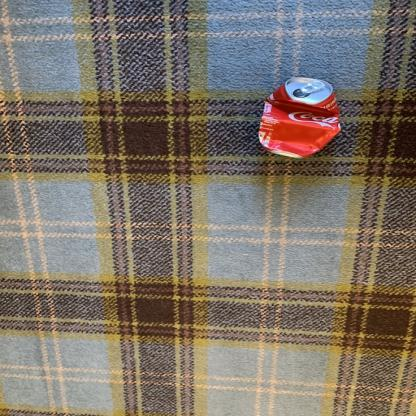trash: (247, 60, 350, 167)
